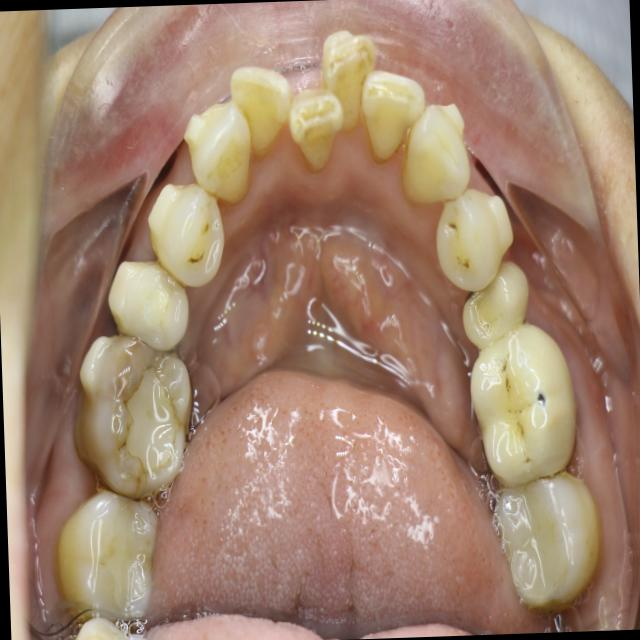tooth: (70, 325, 202, 508), (460, 322, 587, 496), (487, 459, 613, 617), (45, 474, 168, 621), (430, 173, 522, 307), (100, 238, 196, 366), (145, 171, 237, 296), (173, 97, 261, 217), (399, 90, 479, 221), (354, 57, 433, 184), (315, 0, 381, 145), (221, 47, 298, 170), (271, 73, 355, 182), (455, 257, 535, 352)
